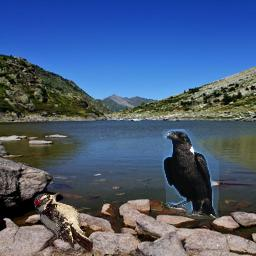Crow: (162, 129, 219, 219)
Woodpecker: (34, 192, 93, 253)
